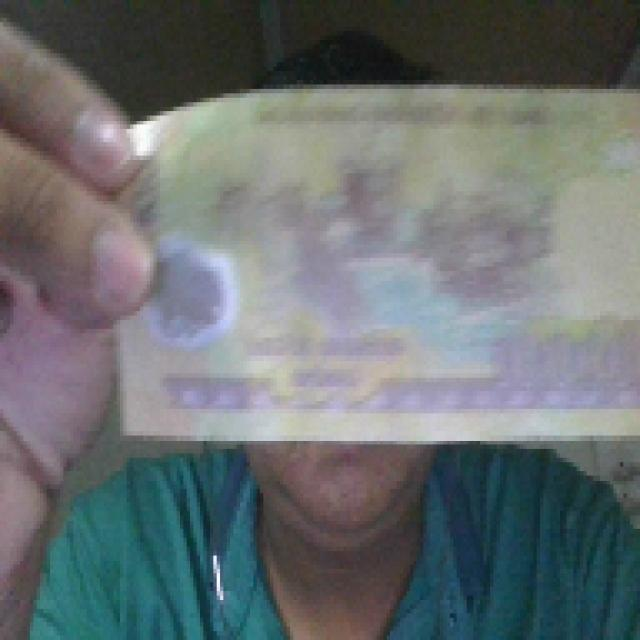10 000 VND: (106, 75, 636, 449)
